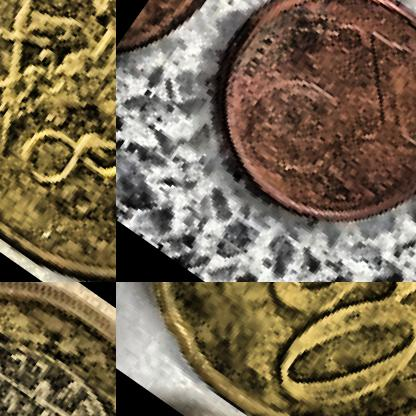coin: (167, 0, 415, 272), (116, 282, 415, 415), (0, 0, 115, 281), (0, 282, 115, 415)
